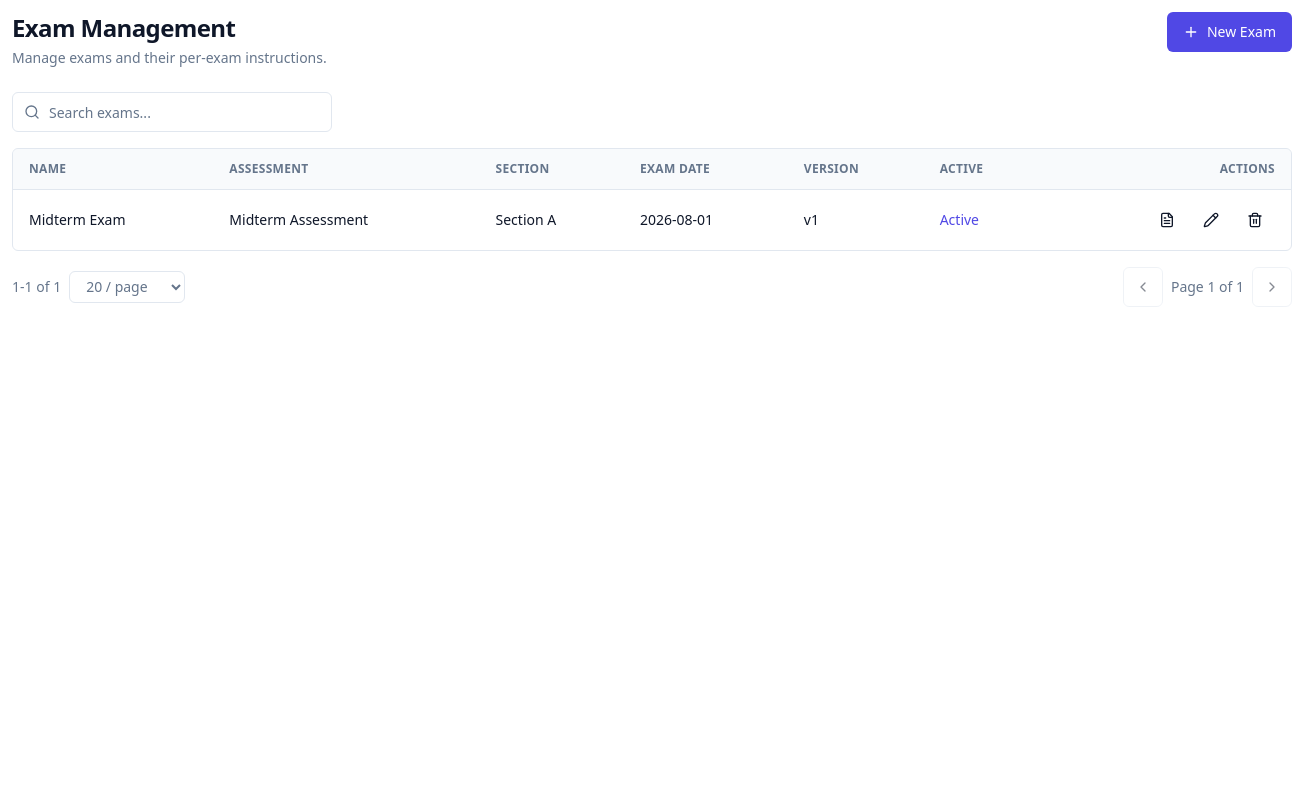
Test: ExamManagementPage › opens the nested instructions panel for a selected exam
This screenshot has width=1304, height=812.
Expected: the text "Midterm Exam" is shown, [13,189,213,250]
Click the button named "Manage instructions for Midterm Exam".
click(1167, 220)  # box [1147,200,1187,240]
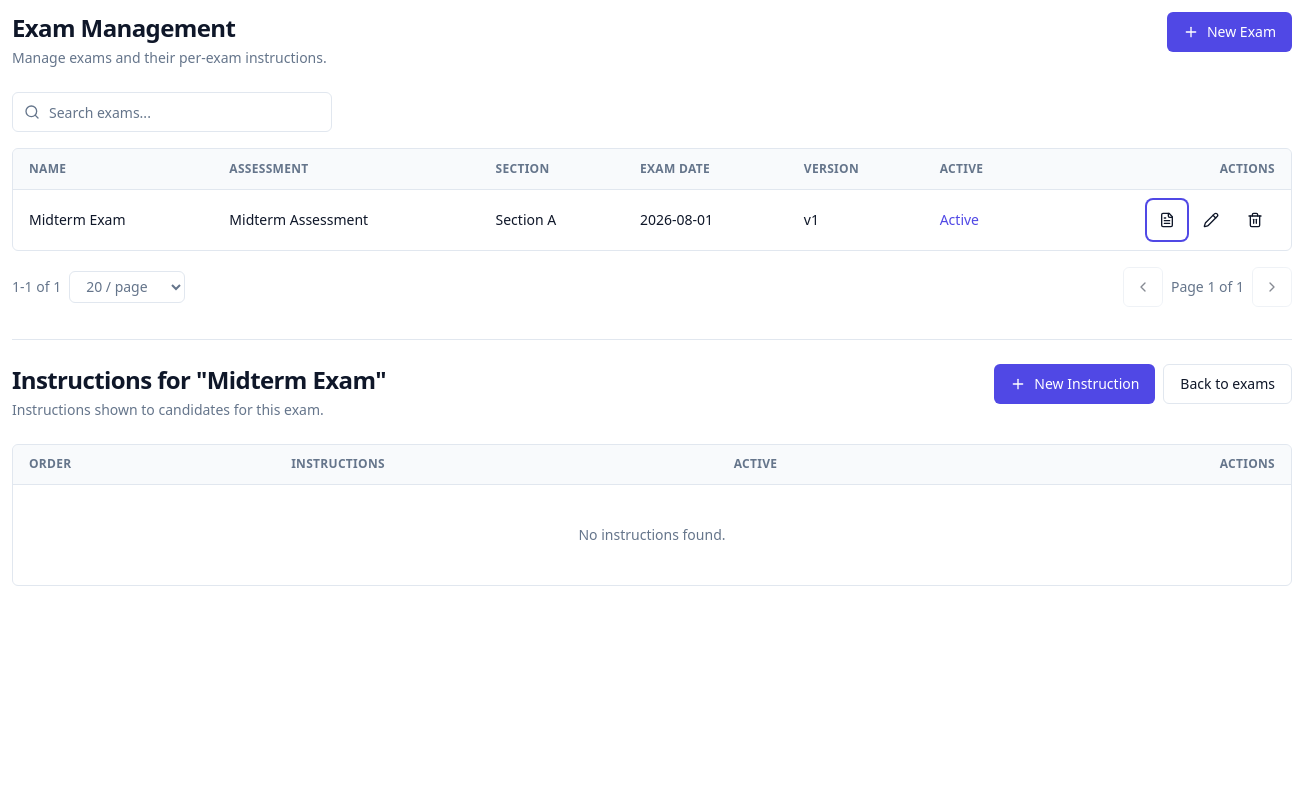
Expected: the heading "Instructions for \"Midterm Exam\"" is shown, [12,364,386,396]
